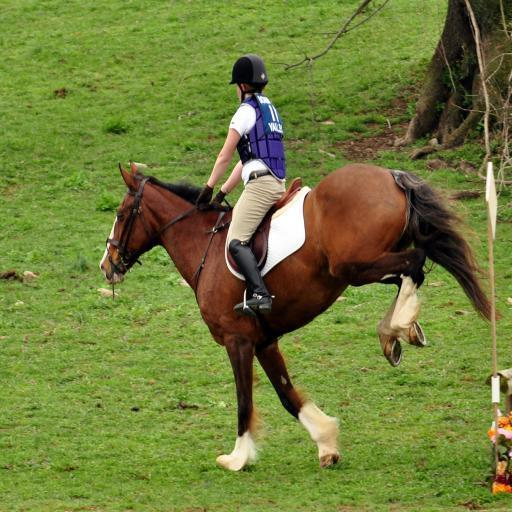horse: (98, 158, 508, 470)
